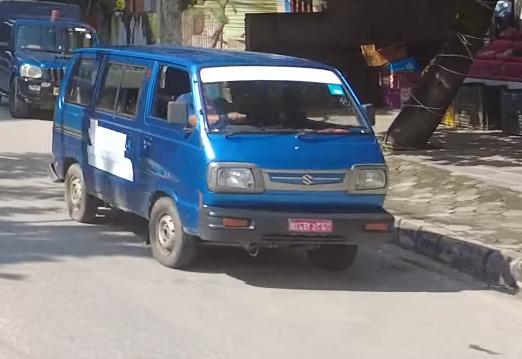police_vehicle: (0, 2, 101, 119)
van: (37, 39, 390, 278)
